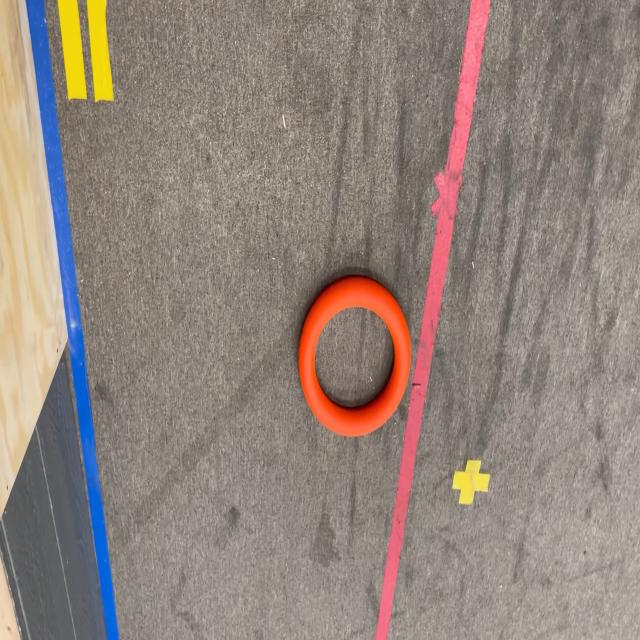note: (297, 276, 412, 437)
